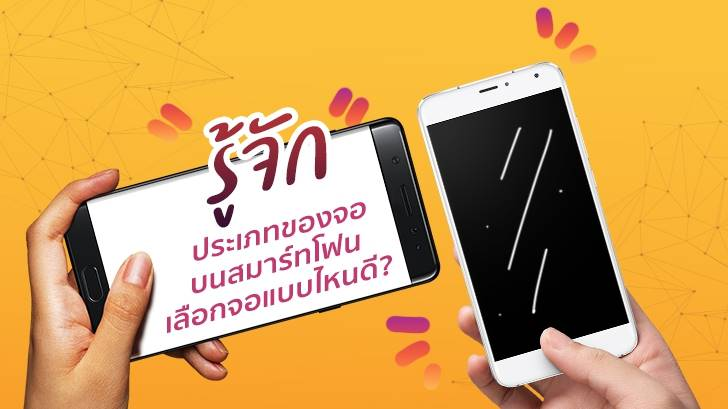Phone: (417, 61, 641, 387)
